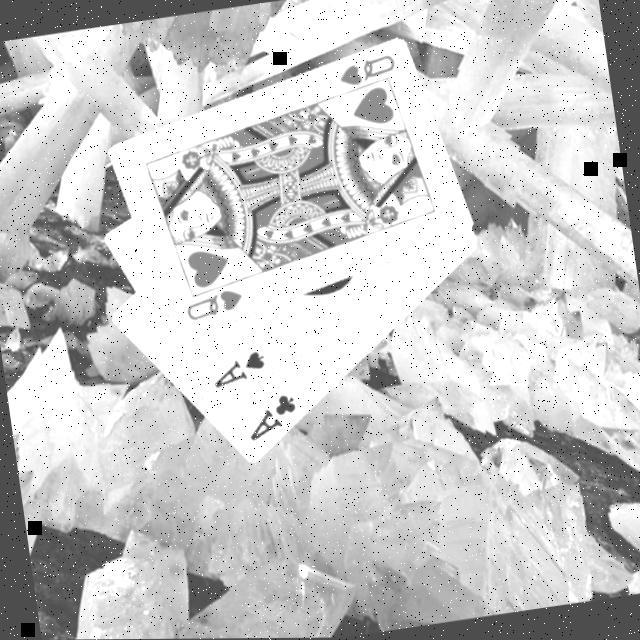AC: (243, 392, 305, 447)
AS: (208, 348, 273, 394)
QH: (331, 53, 404, 103), (182, 286, 250, 328)
